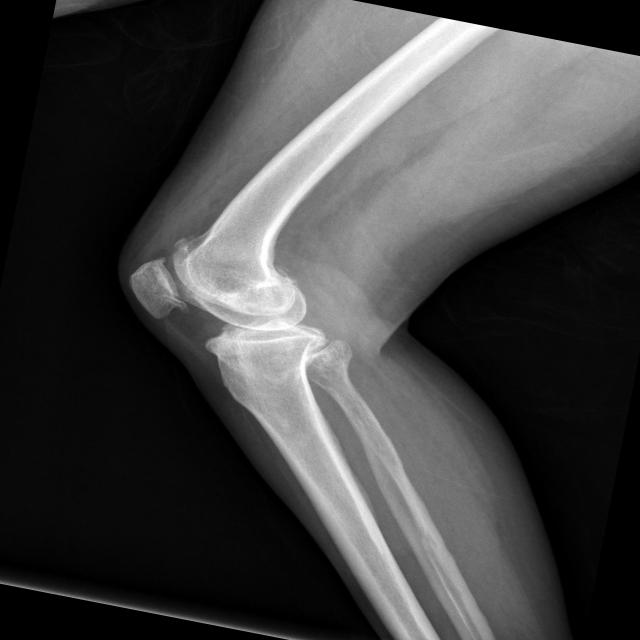Knee: (112, 226, 346, 402)
